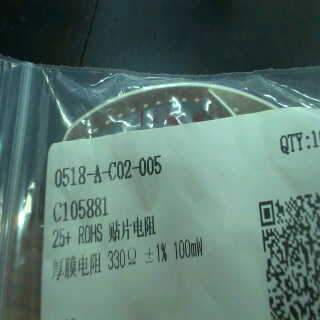330R: (105, 244, 139, 274)
